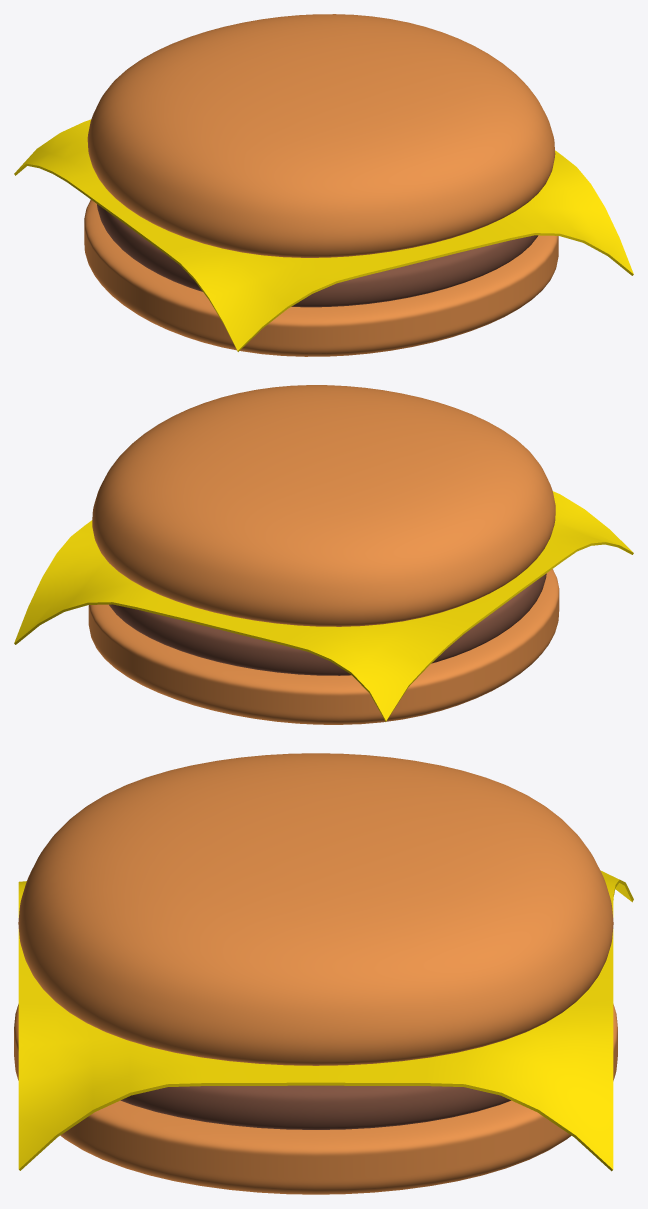
File: hamburger.glb
The picture shows the model from 3 angles, top to bottom: view 1: azimuth 30°, elevation 25°; view 2: azimuth 150°, elevation 25°; view 3: azimuth 270°, elevation 25°; orthographic projection. The views are drawn at different scales.
Parts seen in each view (by area): view 1: Cube.002, Plane, Cube, Cube.001; view 2: Cube.002, Plane, Cube, Cube.001; view 3: Cube.002, Plane, Cube, Cube.001.
Part boxes in pixels (x1=…): Cube.002: x1=87, y1=14, x2=555, y2=257; Plane: x1=14, y1=119, x2=633, y2=351; Cube: x1=84, y1=199, x2=558, y2=356; Cube.001: x1=97, y1=204, x2=538, y2=307; Cube.002: x1=92, y1=385, x2=555, y2=626; Plane: x1=14, y1=491, x2=633, y2=721; Cube: x1=88, y1=569, x2=559, y2=724; Cube.001: x1=109, y1=573, x2=546, y2=675; Cube.002: x1=18, y1=753, x2=613, y2=1065; Plane: x1=18, y1=870, x2=633, y2=1171; Cube: x1=14, y1=1004, x2=617, y2=1194; Cube.001: x1=120, y1=1085, x2=510, y2=1129.
Size of the model in its own units: 0.9087 by 0.4416 by 0.9328.
